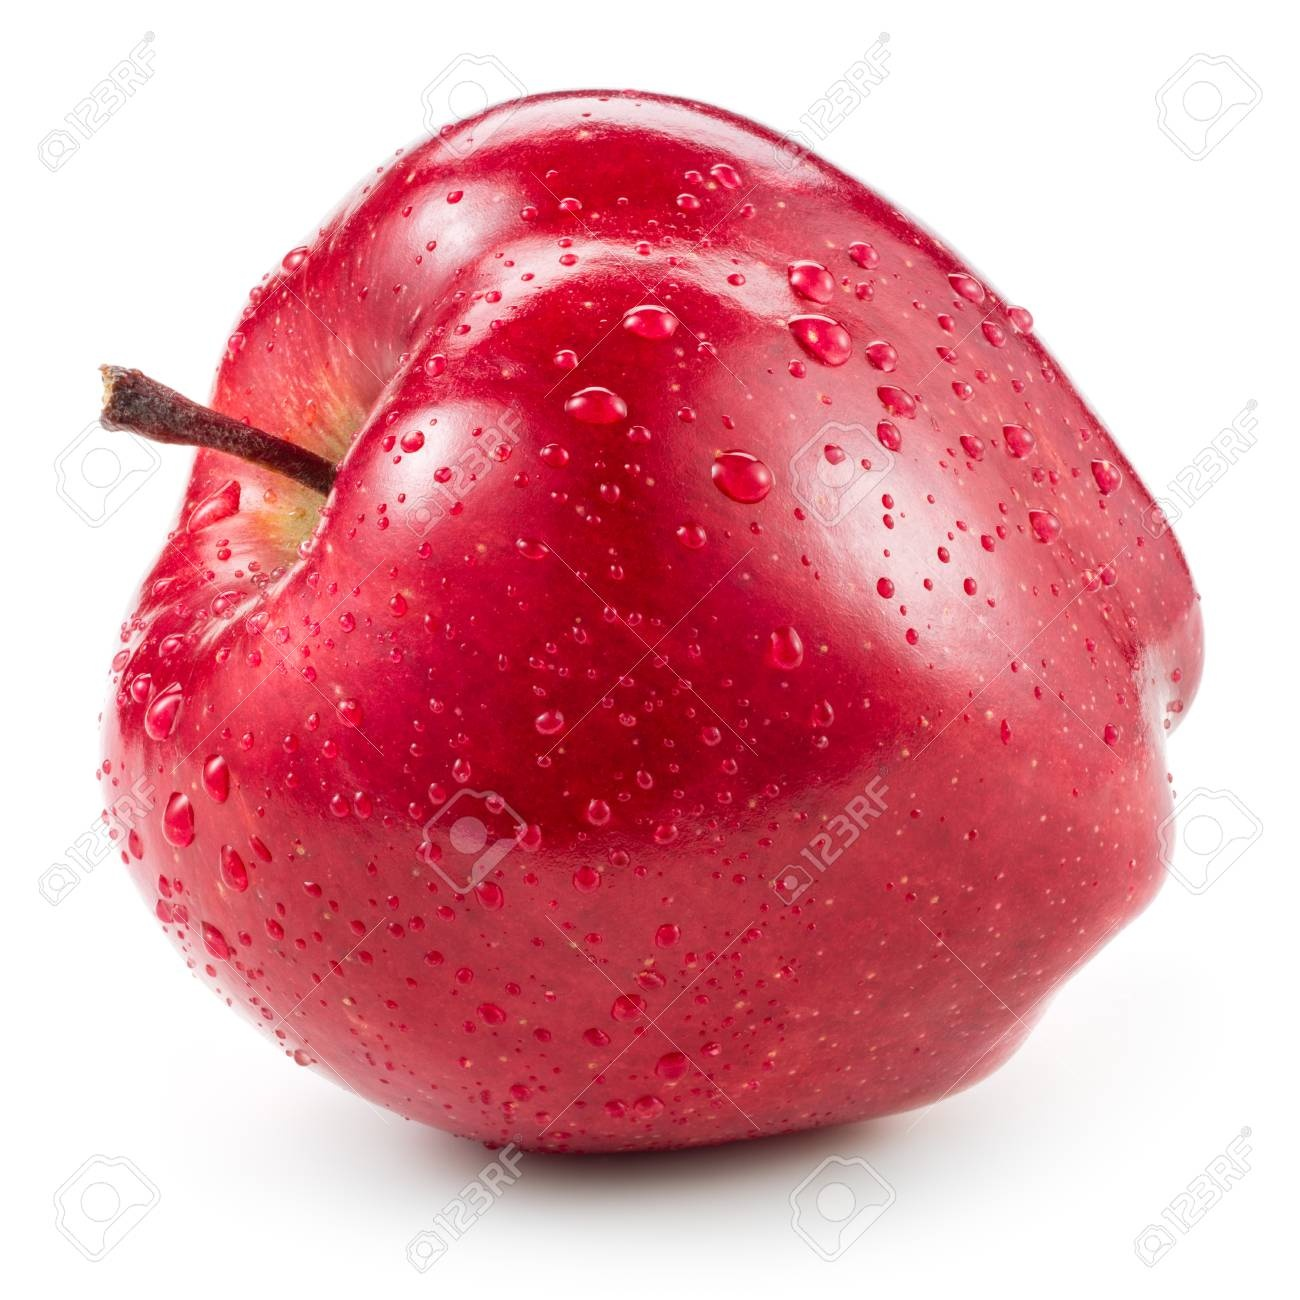apple: (94, 73, 1217, 1158)
